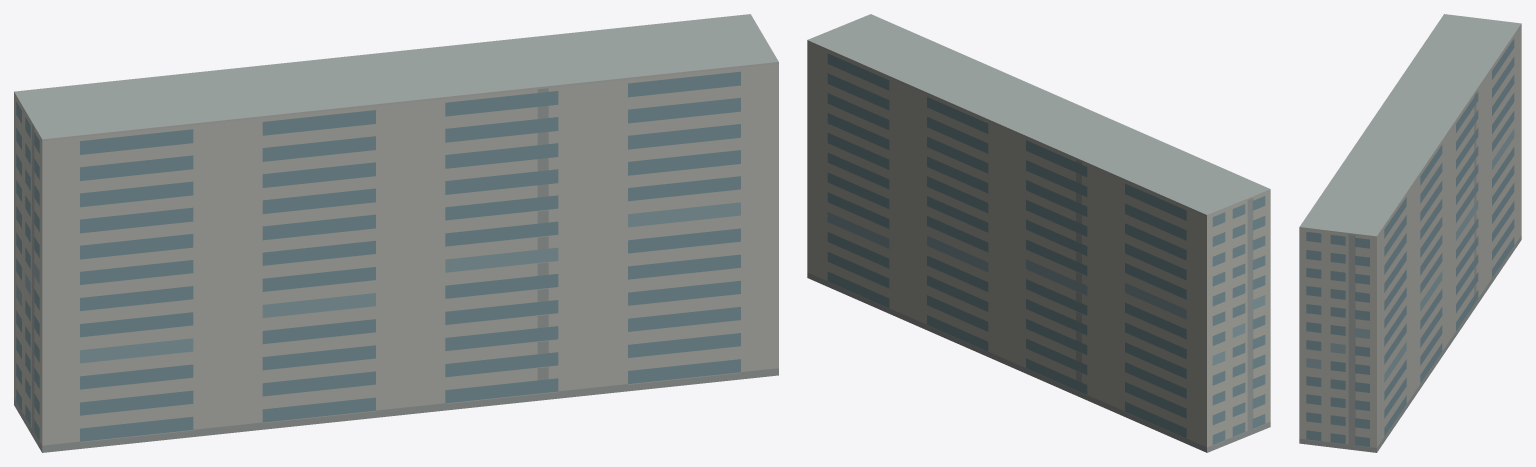
Rendered from residential-ebfa3a6f-a87a-43af-8048-e95978f48a28.glb.
The picture shows the model from 3 angles, left to right: view 1: azimuth 30°, elevation 25°; view 2: azimuth 150°, elevation 25°; view 3: azimuth 270°, elevation 25°; orthographic projection. The views are drawn at different scales.
Parts seen in each view (by area): view 1: residential-ebfa3a6f-a87a-43af-8048-e95978f48a28.tmp; view 2: residential-ebfa3a6f-a87a-43af-8048-e95978f48a28.tmp; view 3: residential-ebfa3a6f-a87a-43af-8048-e95978f48a28.tmp.
Part boxes in pixels (left/top/right/bottom): residential-ebfa3a6f-a87a-43af-8048-e95978f48a28.tmp: left=14, top=14, right=778, bottom=452; residential-ebfa3a6f-a87a-43af-8048-e95978f48a28.tmp: left=807, top=14, right=1270, bottom=452; residential-ebfa3a6f-a87a-43af-8048-e95978f48a28.tmp: left=1299, top=14, right=1521, bottom=452.
Size of the model in its own units: 80.6 by 36.6 by 34.03.
